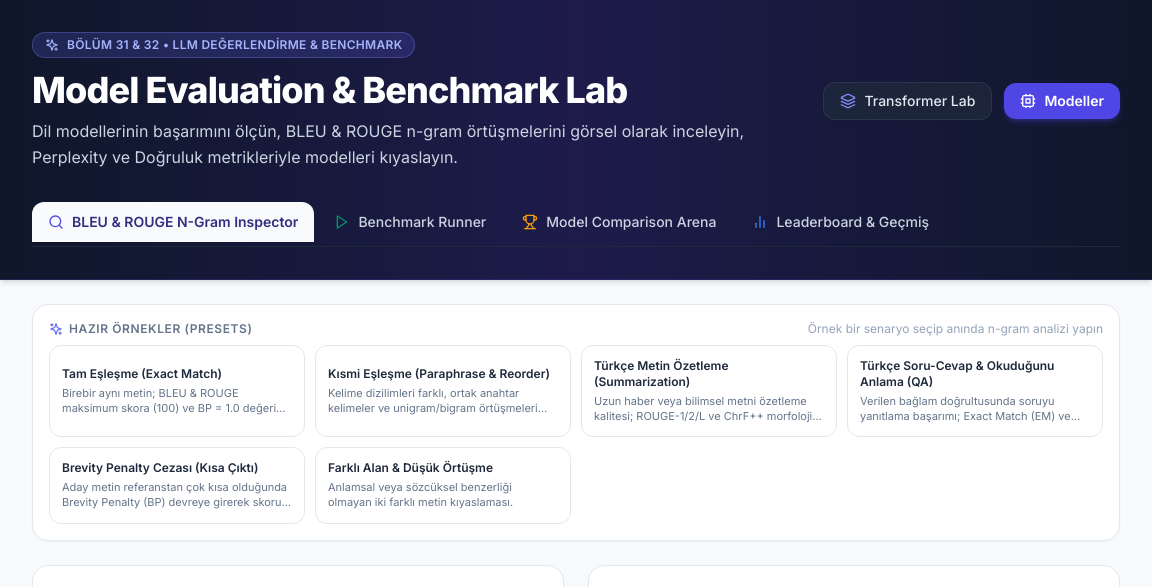
Test: EvaluationLabPage Component › displays 6-Axis Model Radar chart and matrix in Arena mode
What coordinates should you click on to do the following:
click the button "Model Comparison Arena"
I would click on:
 (619, 222)
Its box is [506, 202, 732, 242].
(page scrolled)
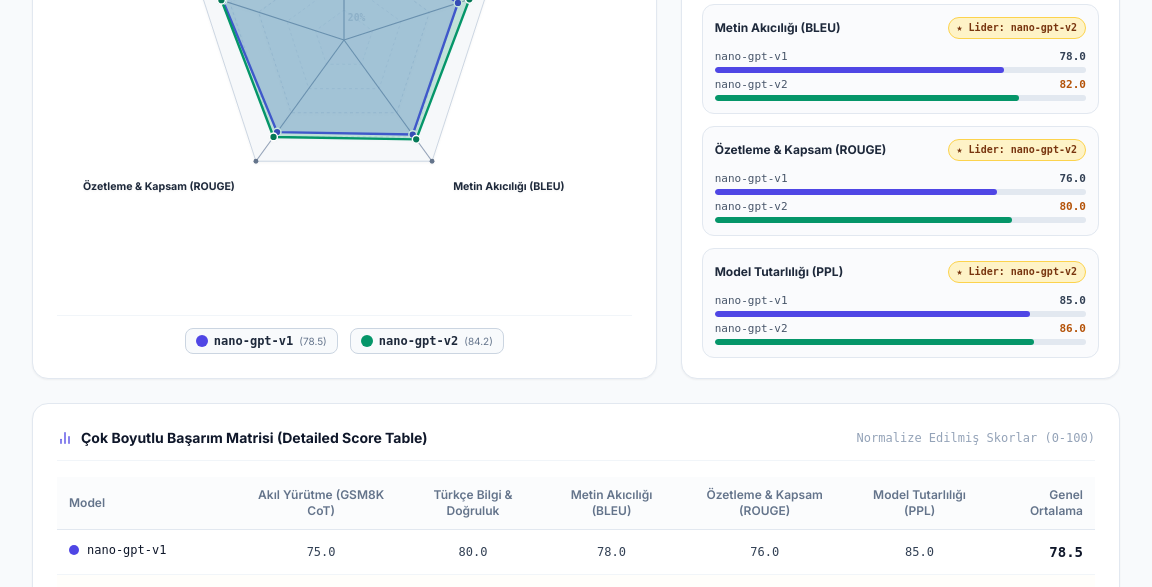
Expected: the heading "Çok Boyutlu Başarım Matrisi (Detailed Score Table)" is shown, [57, 428, 428, 448]
